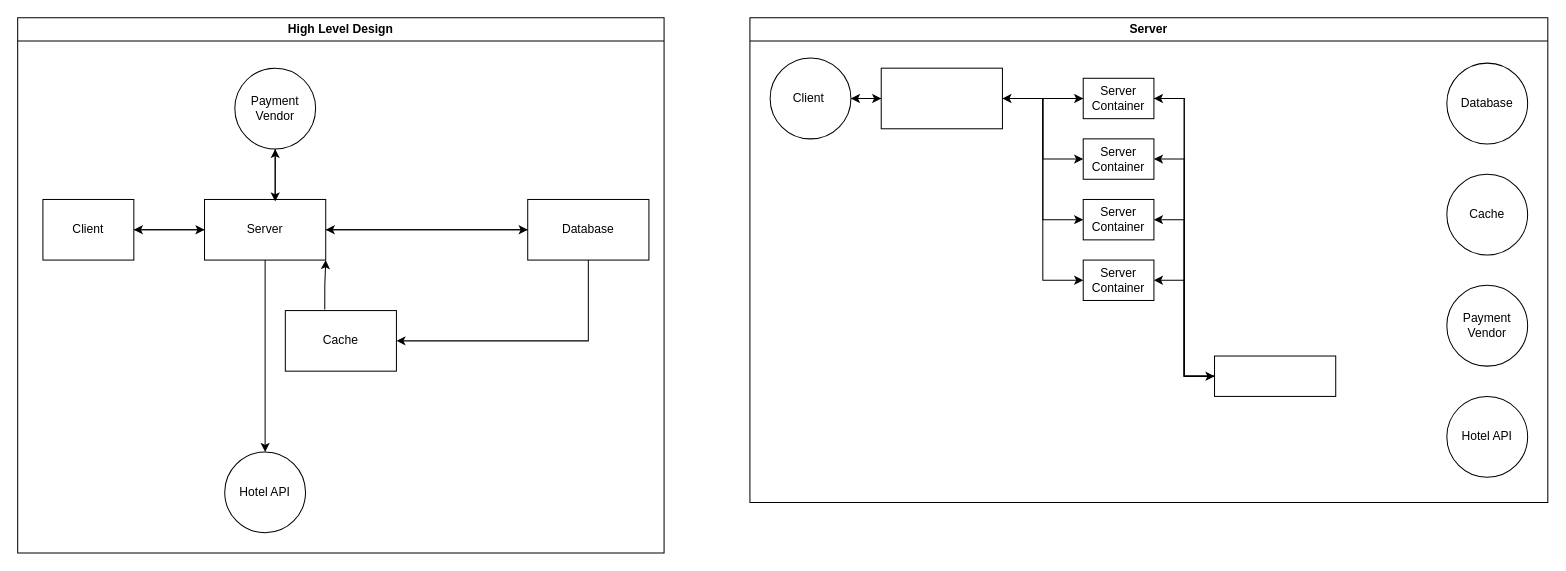
The diagram is 1566 pixels wide and 571 high, and some of its shapes have lost their labels. Here are the shapes that lost their labels. From the top down, the centre of each, then its label:
At pixel 941 98: "Load Balancer & Firewall".
At pixel 1275 375: "Login Container".
